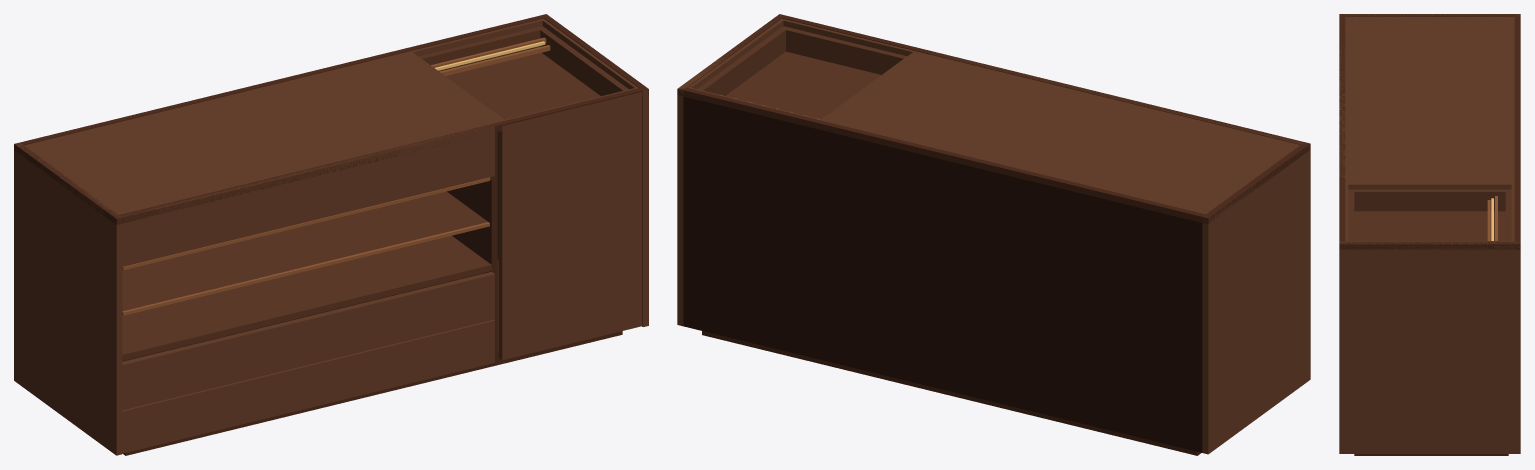
Rendered from tumba_3d_model.obj.
The picture shows the model from 3 angles, left to right: view 1: azimuth 30°, elevation 25°; view 2: azimuth 150°, elevation 25°; view 3: azimuth 270°, elevation 25°; orthographic projection. The views are drawn at different scales.
Visible parts, largest first — view 1: main_top_surface, right_full_height_door, left_side_panel, upper_front_panel, upper_drawer_front, lower_drawer_front, niche_floor, niche_shelf, cavity_floor, top_front_rim, module_divider, top_back_rim (+12 smaller); view 2: rear_panel, main_top_surface, left_side_panel, cavity_floor, top_back_rim, cavity_front_wall, plinth, top_front_rim, cavity_right_wall, right_side_panel, upper_front_panel, top_left_rim (+3 smaller); view 3: right_side_panel, main_top_surface, cavity_floor, cavity_left_wall, cavity_left_rim, top_back_rim, top_front_rim, top_right_rim, top_left_rim, upper_front_panel, cavity_front_wall, cavity_back_wall (+4 smaller).
Part boxes in pixels (<box>): main_top_surface: <box>24,53,496,214</box>; right_full_height_door: <box>498,92,642,360</box>; left_side_panel: <box>14,142,122,455</box>; upper_front_panel: <box>122,124,494,266</box>; upper_drawer_front: <box>122,271,494,410</box>; lower_drawer_front: <box>122,319,494,453</box>; niche_floor: <box>122,235,491,360</box>; niche_shelf: <box>122,191,487,311</box>; cavity_floor: <box>446,52,600,148</box>; top_front_rim: <box>113,86,648,224</box>; module_divider: <box>447,132,497,359</box>; top_back_rim: <box>14,14,549,151</box>; rear_panel: <box>683,96,1202,452</box>; main_top_surface: <box>829,53,1299,214</box>; left_side_panel: <box>1202,143,1310,454</box>; cavity_floor: <box>725,51,880,119</box>; top_back_rim: <box>677,88,1211,224</box>; cavity_front_wall: <box>786,27,906,74</box>; plinth: <box>702,331,1201,455</box>; top_front_rim: <box>776,14,1310,151</box>; cavity_right_wall: <box>697,26,788,95</box>; right_side_panel: <box>677,14,784,326</box>; upper_front_panel: <box>929,52,1303,144</box>; top_left_rim: <box>1206,144,1306,221</box>; right_side_panel: <box>1339,241,1520,453</box>; main_top_surface: <box>1345,17,1514,180</box>; cavity_floor: <box>1354,211,1505,240</box>; cavity_left_wall: <box>1348,189,1511,211</box>; cavity_left_rim: <box>1345,180,1514,189</box>; top_back_rim: <box>1514,14,1520,249</box>; top_front_rim: <box>1339,14,1345,249</box>; top_right_rim: <box>1345,241,1514,249</box>; top_left_rim: <box>1345,14,1514,16</box>; upper_front_panel: <box>1339,17,1345,177</box>; cavity_front_wall: <box>1348,192,1354,240</box>; cavity_back_wall: <box>1505,192,1511,240</box>.
Bounding box in the file's own units: 1.8 × 0.8 × 0.6.
